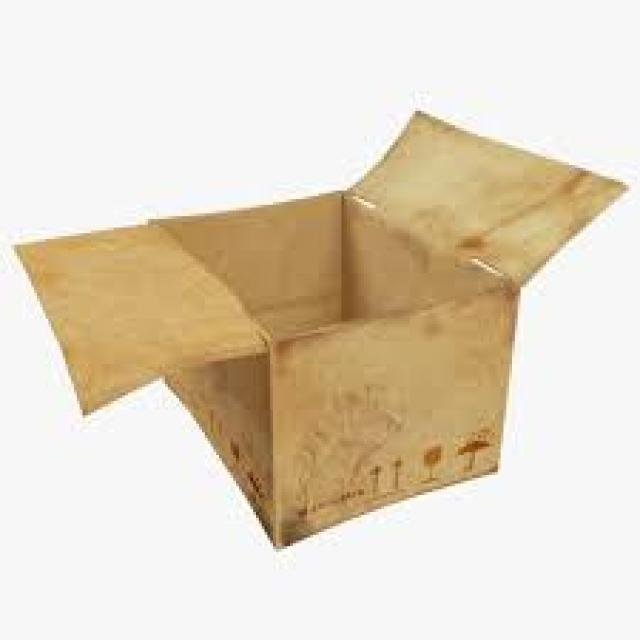Cardboard: (13, 104, 626, 545)
